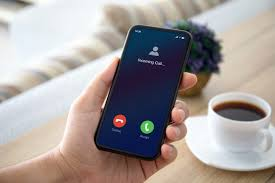Smart Phone: (101, 14, 193, 160)
